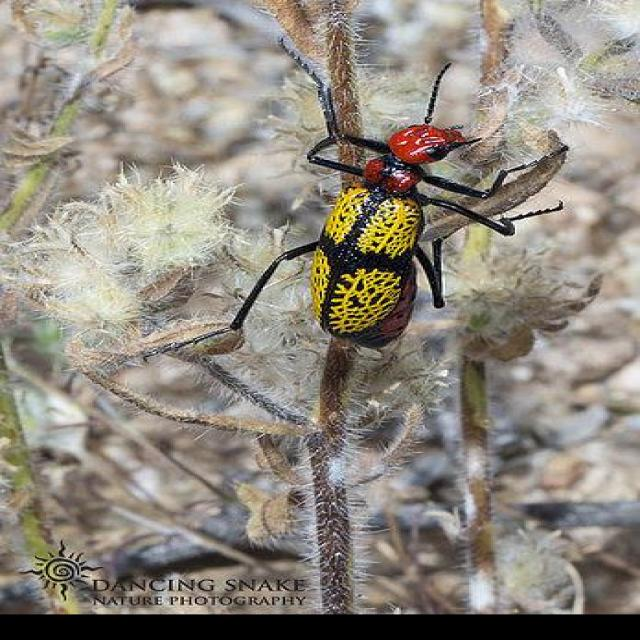BlisterBeetle-Adult-: (228, 31, 547, 355)
